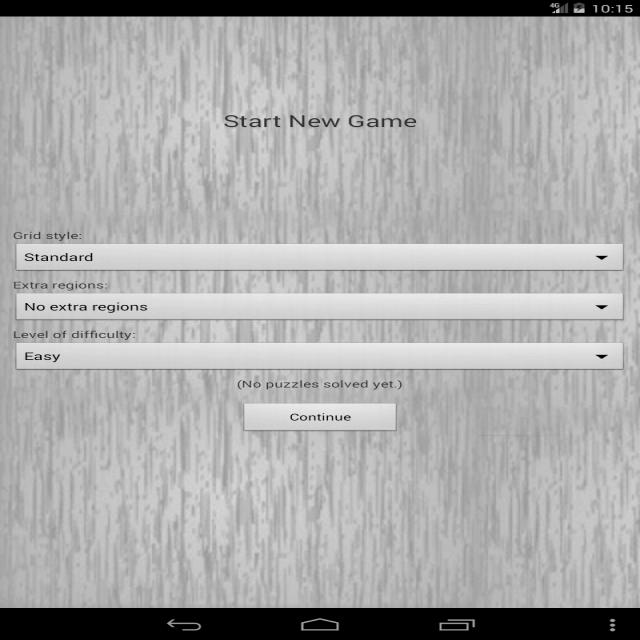Button: (241, 400, 401, 434)
TextView: (218, 107, 424, 131), (22, 295, 154, 313), (22, 247, 104, 267), (18, 344, 68, 364)
